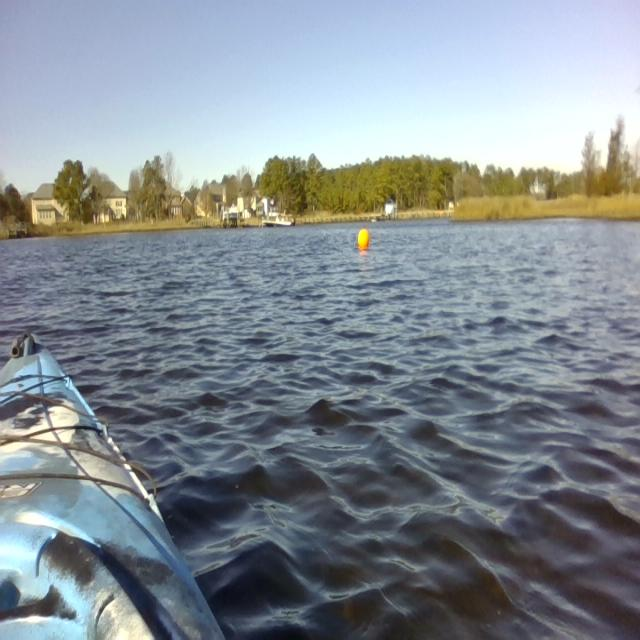Buoy: (353, 224, 373, 255)
